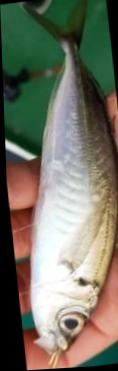fish: (19, 0, 118, 352)
